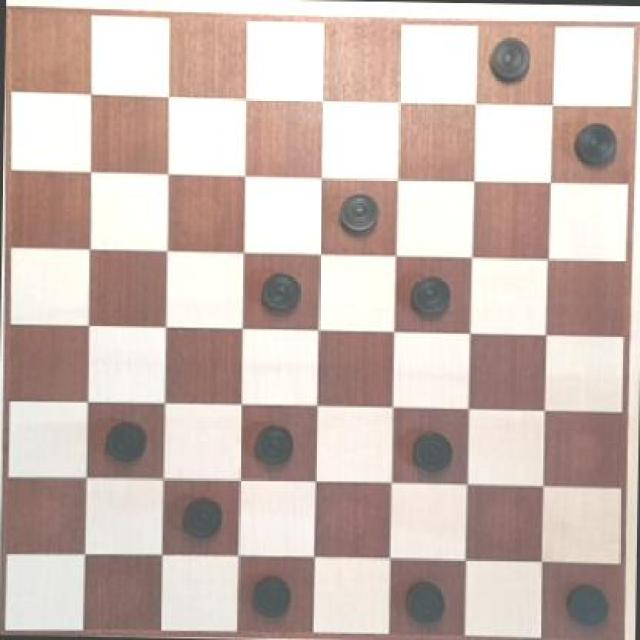BOARD: (8, 7, 625, 640)
black: (555, 576, 616, 630), (98, 412, 154, 470), (404, 569, 454, 627), (564, 119, 623, 168), (244, 568, 294, 620), (178, 493, 226, 544), (250, 419, 296, 471), (408, 424, 452, 478), (407, 271, 455, 316), (489, 34, 531, 82), (259, 270, 301, 316), (335, 192, 377, 236)
